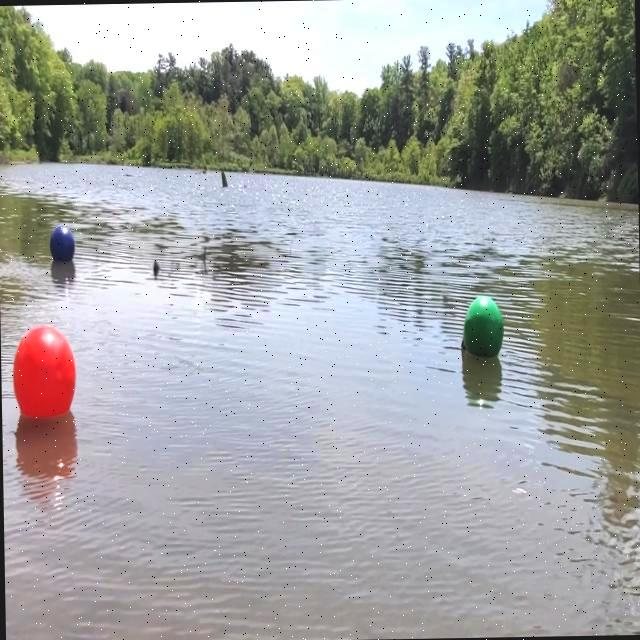buoy: (10, 320, 78, 434), (460, 288, 506, 365), (48, 223, 76, 268)
